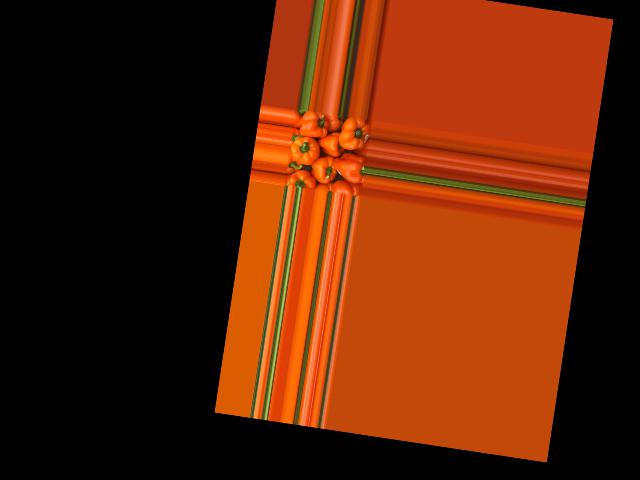bell_pepper: (331, 179, 363, 196)
